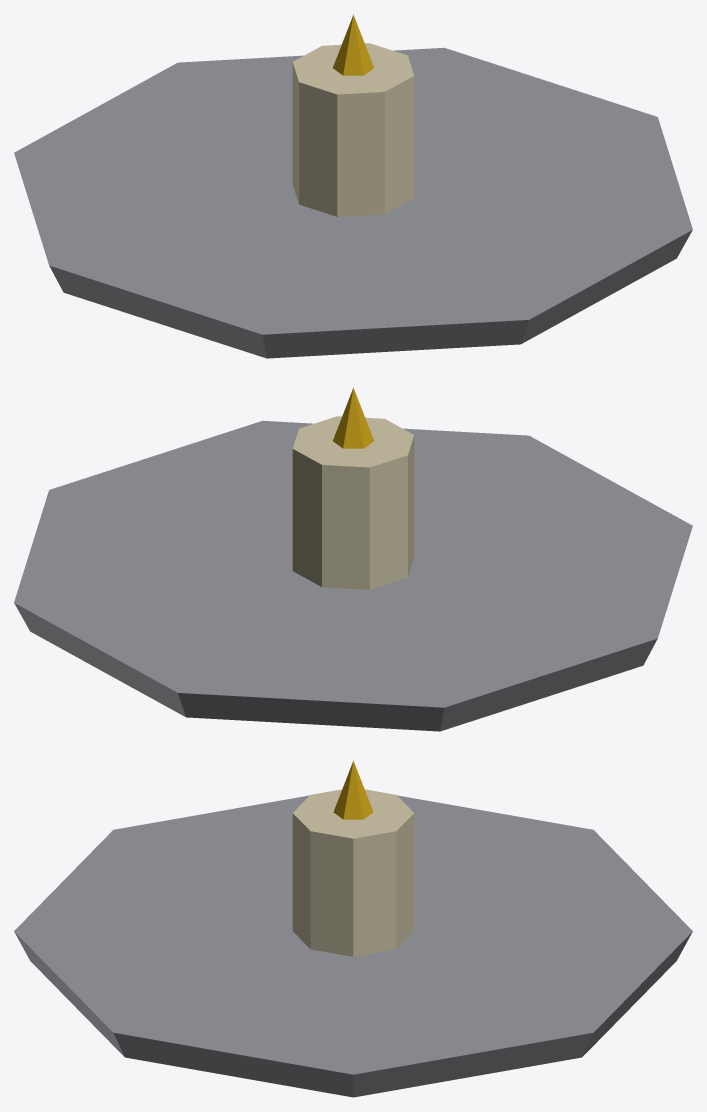
Rendered from candle-holder-30.glb.
3 views of the same model, one above another, from view 1: azimuth 30°, elevation 25°; view 2: azimuth 150°, elevation 25°; view 3: azimuth 270°, elevation 25° (orthographic). The views are drawn at different scales.
Visible parts, largest first — view 1: candle_holder_30; view 2: candle_holder_30; view 3: candle_holder_30.
Boxes of the visible parts, x1,y1,x2,y2 form: candle_holder_30: (14,14,692,358); candle_holder_30: (14,387,692,731); candle_holder_30: (14,760,692,1097).
Bounding box in the file's own units: 0.4155 × 0.1353 × 0.4155.
